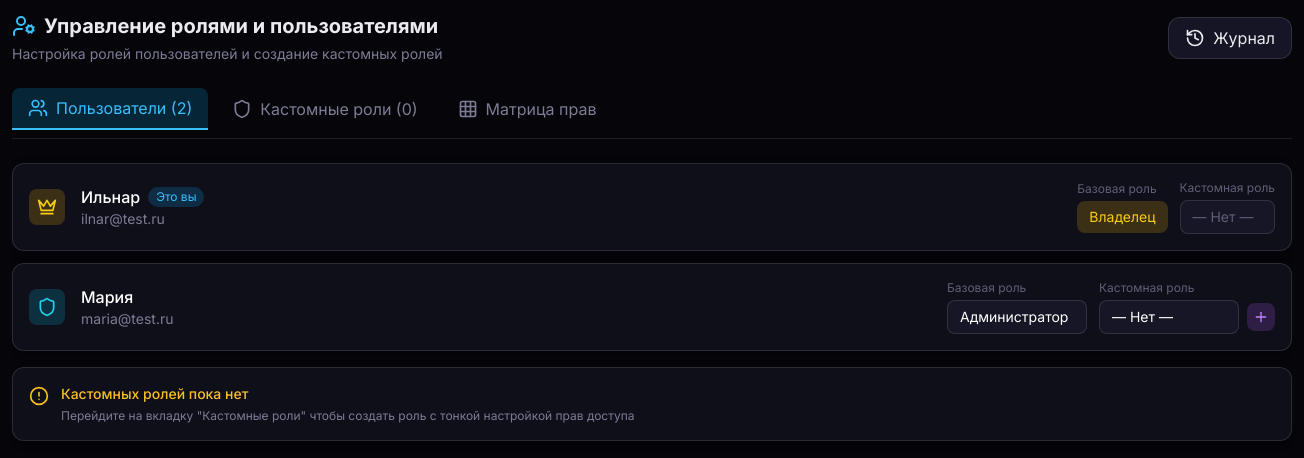
Test: RoleManagement › вкладка «Кастомные роли» › пустое состояние, если ролей нет
This screenshot has width=1304, height=458.
Click the button "Кастомные роли (0)" at (325, 109), box [216, 88, 434, 130]
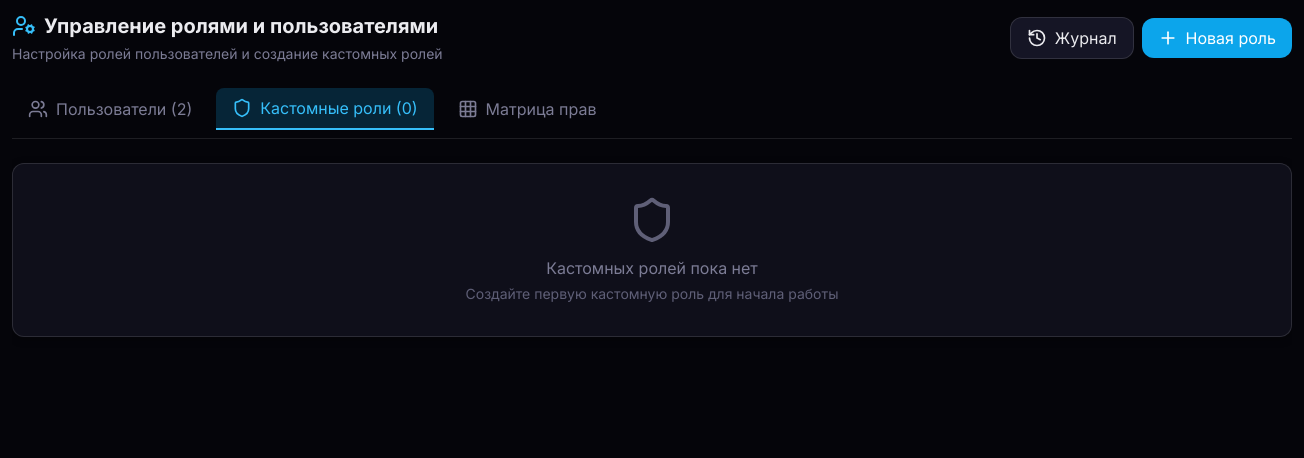
Check: the text "Создайте первую кастомную роль для начала работы" is shown, box [466, 285, 838, 302]
